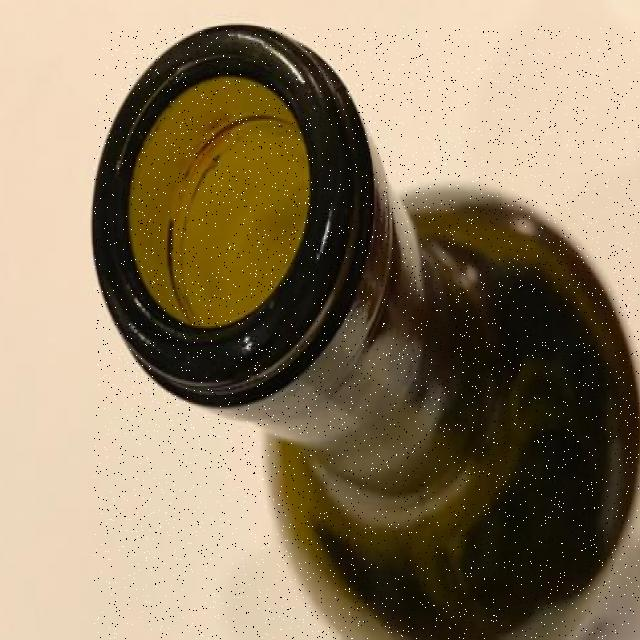glass: (94, 26, 640, 639)
